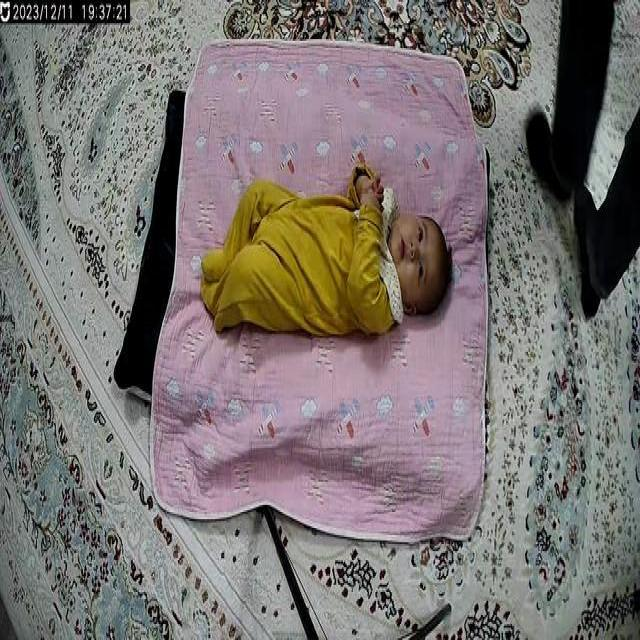baby: (198, 148, 454, 352)
